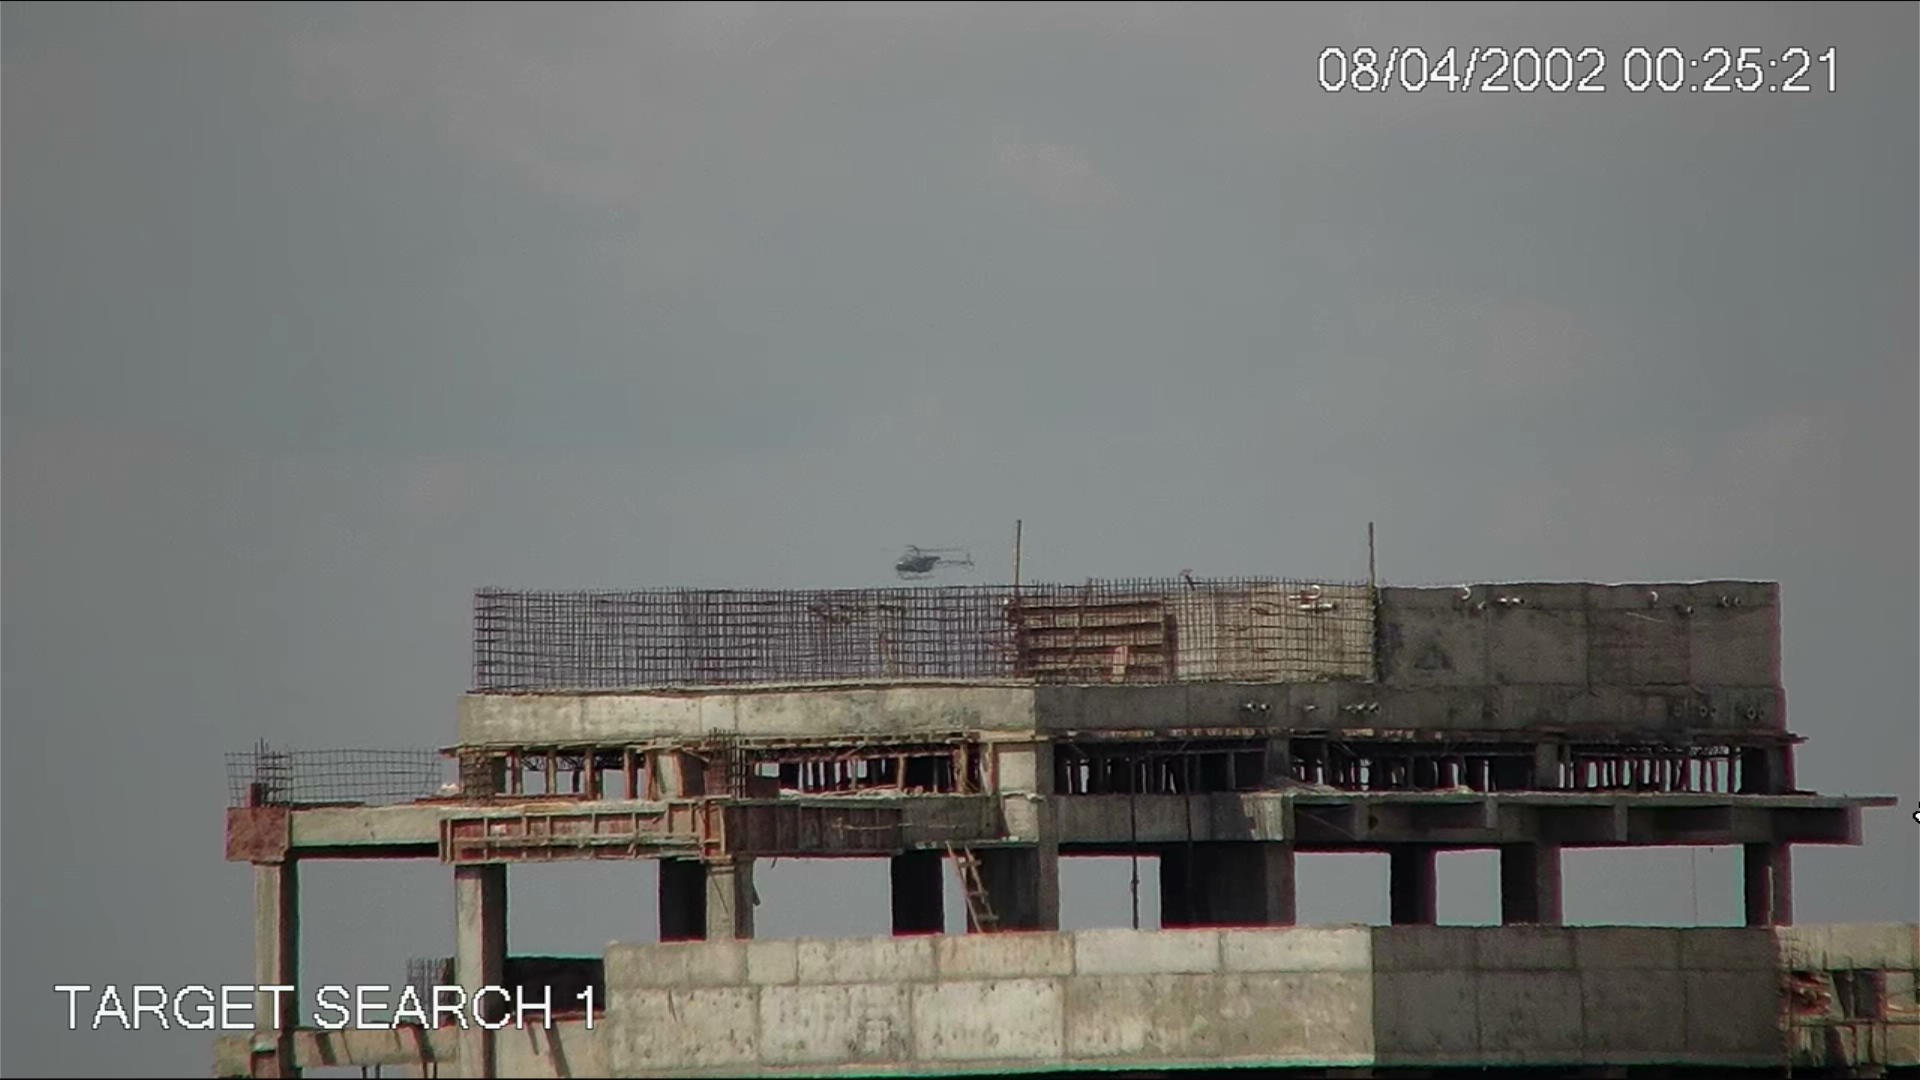SU_30: (887, 541, 978, 580)
